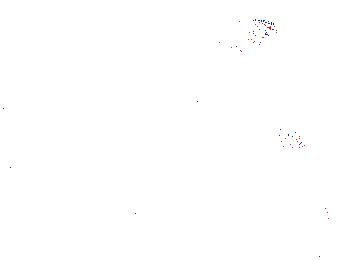X-ray fish: (213, 17, 279, 57)
glassfish: (210, 129, 275, 185), (123, 195, 168, 226)
red belly glassfish: (256, 126, 306, 150)
